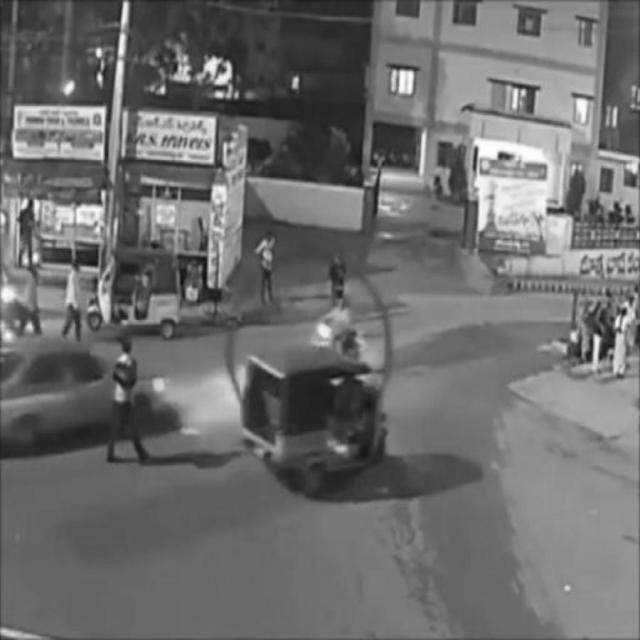vehicle: (244, 355, 390, 495), (4, 328, 166, 441), (89, 251, 185, 342), (107, 341, 151, 463), (310, 296, 371, 362), (66, 260, 86, 342), (261, 233, 279, 309)
